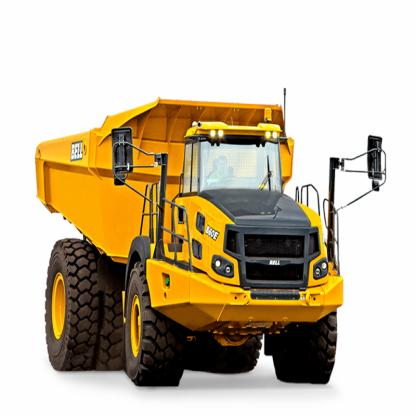dump_truck: (34, 92, 349, 382)
